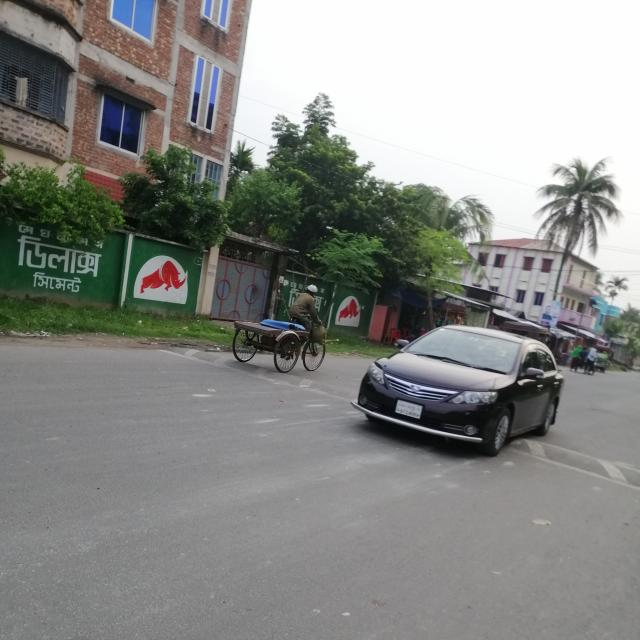Car: (347, 317, 574, 461)
